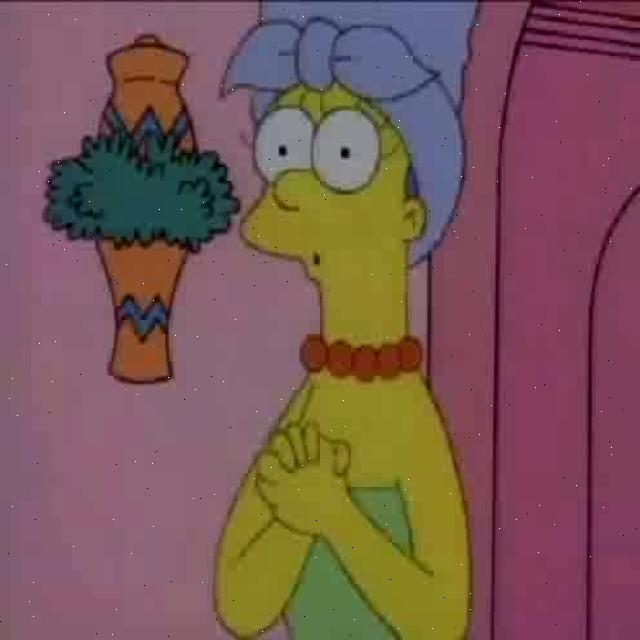Marge Simpson: (235, 79, 477, 391)
